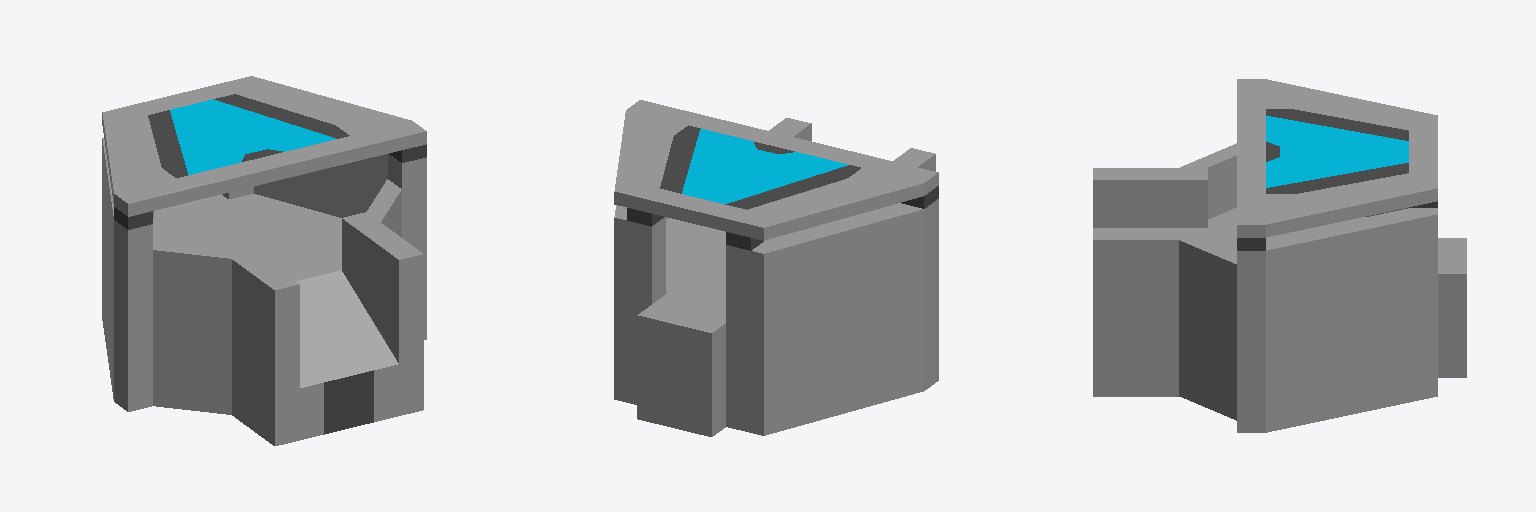
Rendered from bunker-small-covered.obj.
3 renders of one model, left to right at view 1: azimuth 30°, elevation 25°; view 2: azimuth 150°, elevation 25°; view 3: azimuth 270°, elevation 25°, orthographic.
Parts seen in each view (by area): view 1: Mesh1 Bunker__Small__Covered1 Model; view 2: Mesh1 Bunker__Small__Covered1 Model; view 3: Mesh1 Bunker__Small__Covered1 Model.
Part boxes in pixels (x1,y1,x2,y2): Mesh1 Bunker__Small__Covered1 Model: (102,76,426,445); Mesh1 Bunker__Small__Covered1 Model: (614,100,938,436); Mesh1 Bunker__Small__Covered1 Model: (1093,79,1466,432).
Size of the model in its own units: 3 by 2 by 3.25.